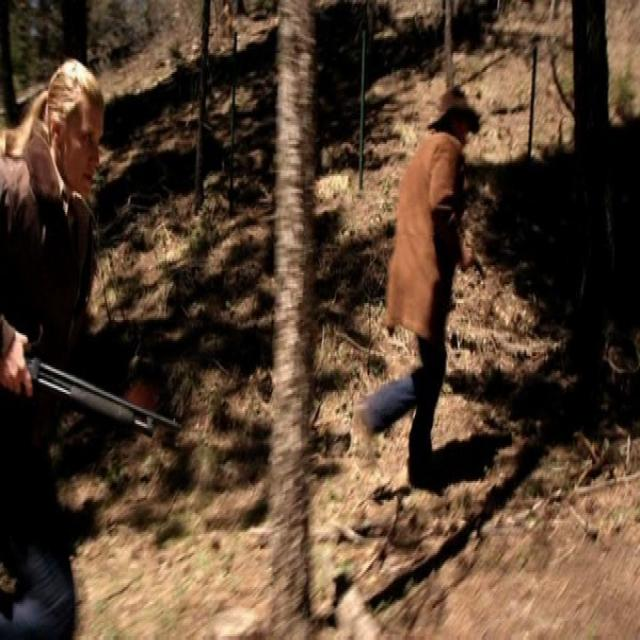rifle: (30, 354, 192, 449)
